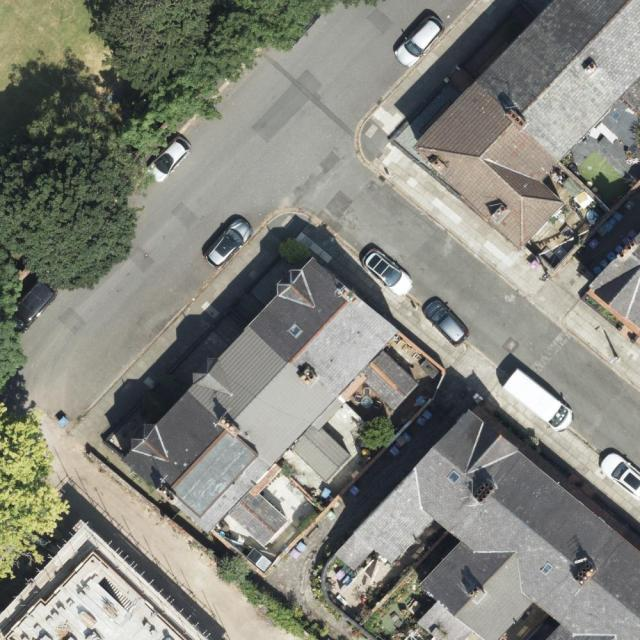roof: (122, 260, 421, 543), (333, 406, 640, 640), (411, 0, 640, 252), (586, 229, 640, 332)
skylight: (285, 321, 305, 341), (537, 560, 555, 578), (445, 467, 462, 485), (610, 111, 624, 122)
